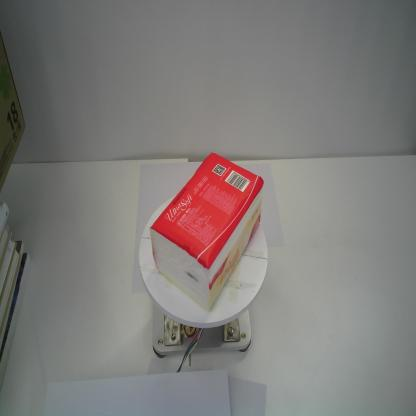Tissue: (149, 151, 264, 312)
